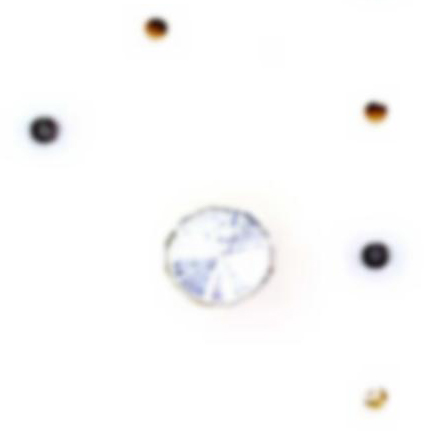abnormal: (142, 183, 309, 332)
cancer: (15, 105, 83, 160), (351, 221, 414, 279)
normal: (130, 10, 188, 49), (354, 374, 400, 420), (356, 92, 400, 133)
